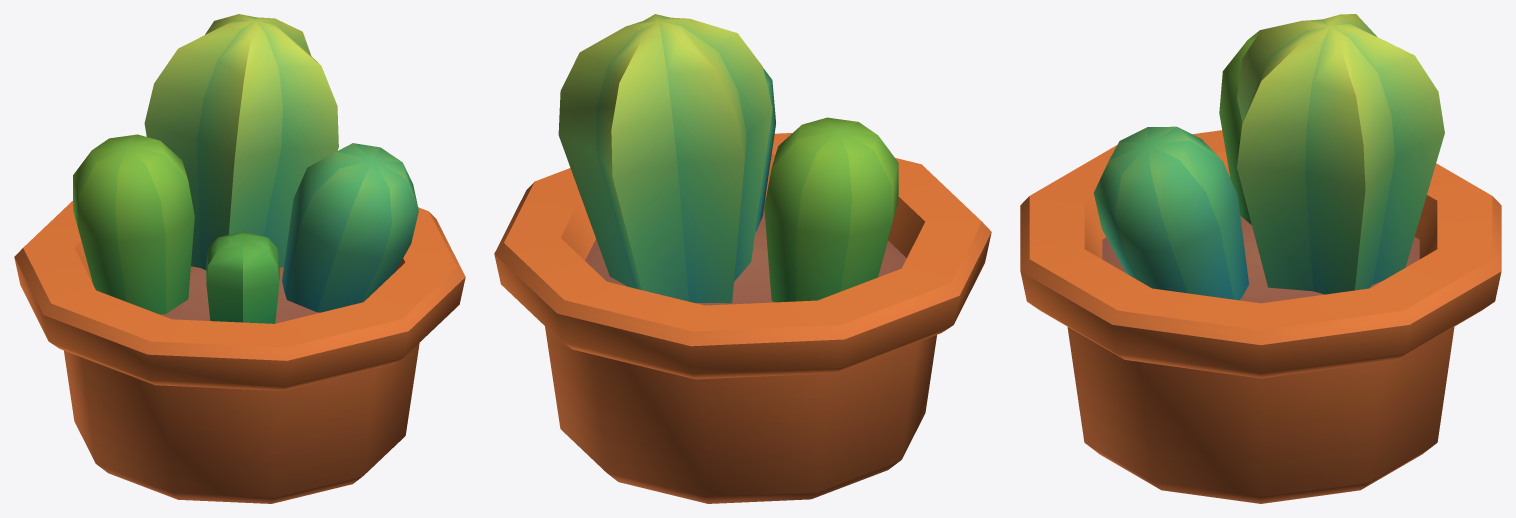
The model's file is cactus-medium-b.glb.
The picture shows the model from 3 angles, left to right: view 1: azimuth 30°, elevation 25°; view 2: azimuth 150°, elevation 25°; view 3: azimuth 270°, elevation 25°; orthographic projection. The views are drawn at different scales.
Visible parts, largest first — view 1: cactus_medium_B; view 2: cactus_medium_B; view 3: cactus_medium_B.
Boxes of the visible parts, bbox=[...] form: cactus_medium_B: bbox=[14, 14, 465, 503]; cactus_medium_B: bbox=[494, 14, 991, 503]; cactus_medium_B: bbox=[1020, 14, 1501, 503].
Bounding box in the file's own units: 0.8799 × 0.8273 × 0.8368.
1 material, 1 textured.
